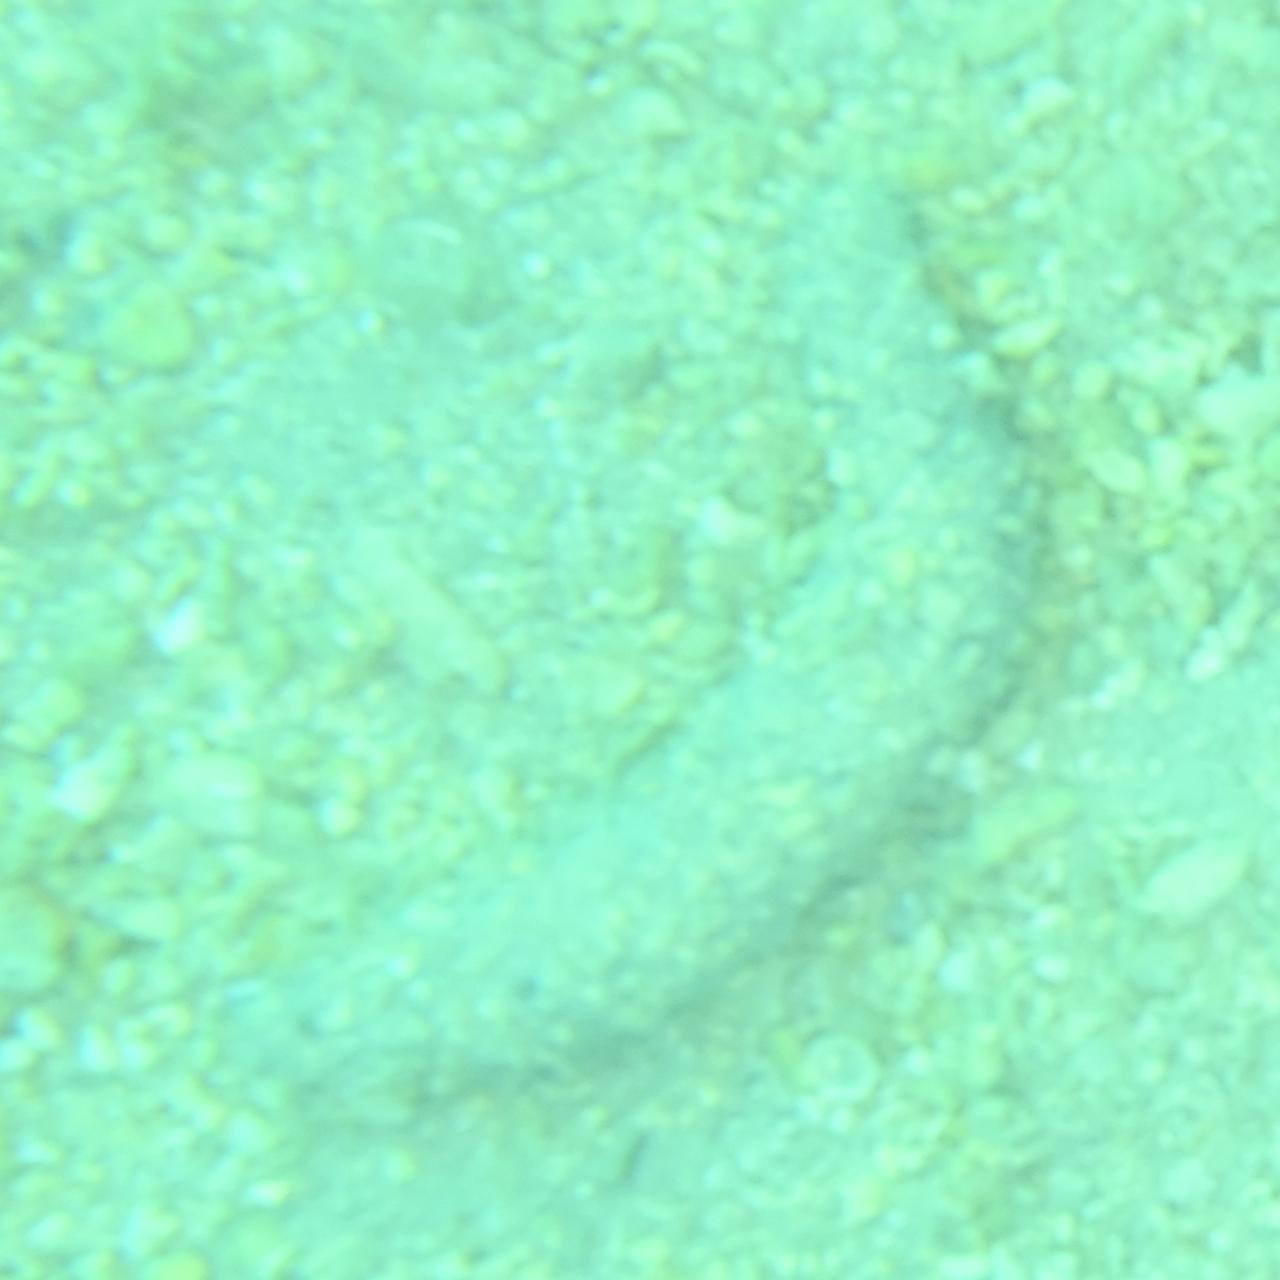Holothuria tubulosa: (215, 158, 1065, 1122)
